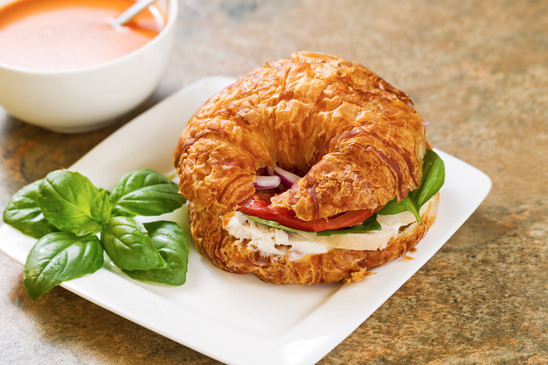slice of bread: (179, 62, 428, 209), (185, 194, 439, 279)
